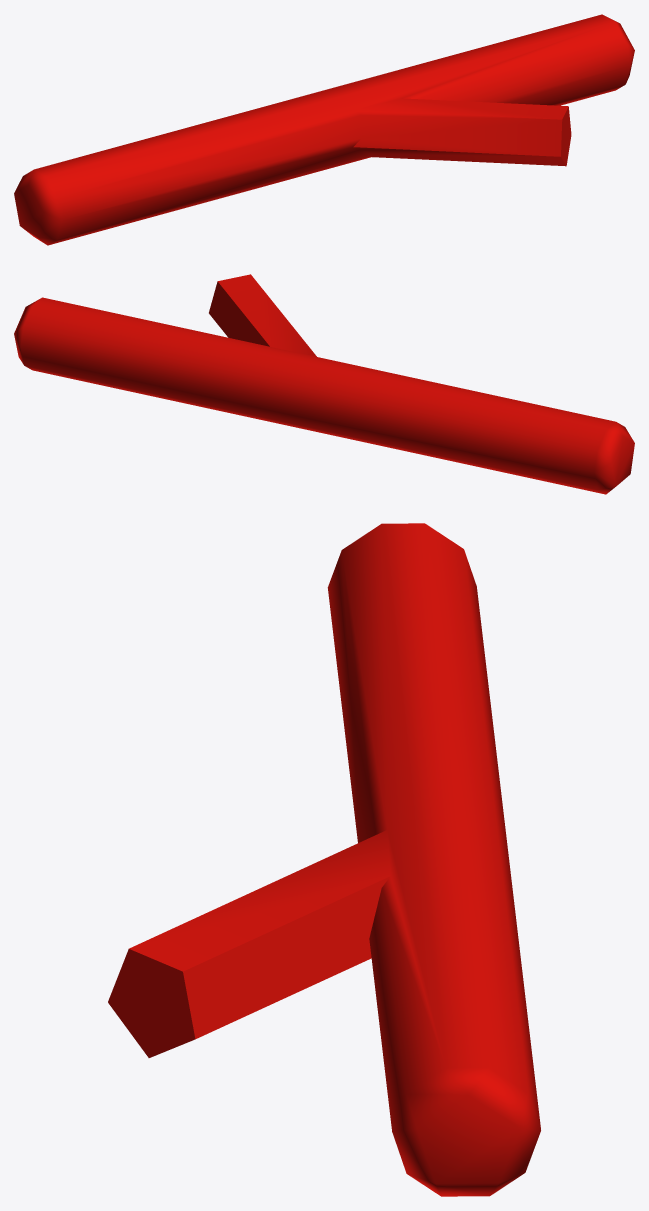
File: Gummy_Branch.glb
3 views of the same model, one above another, from view 1: azimuth 30°, elevation 25°; view 2: azimuth 150°, elevation 25°; view 3: azimuth 270°, elevation 25° (orthographic). The views are drawn at different scales.
Visible parts, largest first — view 1: Gummy_Branch; view 2: Gummy_Branch; view 3: Gummy_Branch.
Boxes of the visible parts, box(x1,y1,x2,y2) form: Gummy_Branch: box(14, 14, 634, 245); Gummy_Branch: box(14, 274, 634, 494); Gummy_Branch: box(108, 523, 540, 1196).
Size of the model in its own units: 2.01 by 0.2126 by 0.6463.
